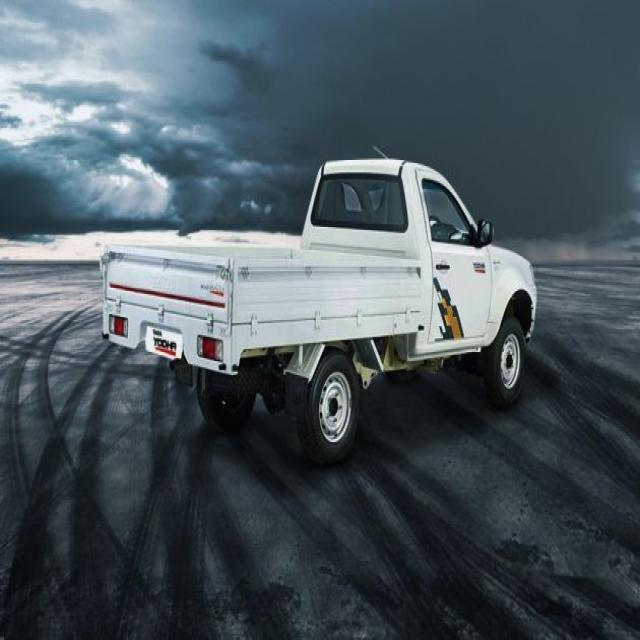light_vehicle: (100, 158, 535, 442)
